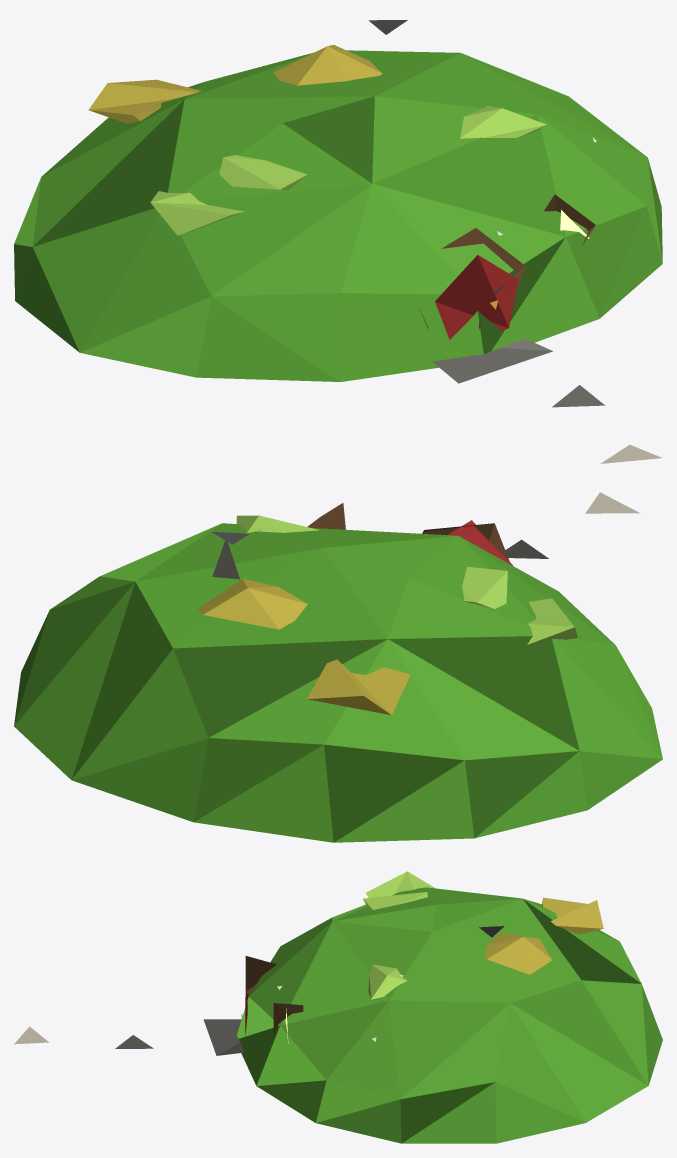
The model's file is hobbit_hole_2_lod2.glb.
The picture shows the model from 3 angles, top to bottom: view 1: azimuth 30°, elevation 25°; view 2: azimuth 150°, elevation 25°; view 3: azimuth 270°, elevation 25°; orthographic projection. The views are drawn at different scales.
Parts seen in each view (by area): view 1: hobbit_hole_2_lod2; view 2: hobbit_hole_2_lod2; view 3: hobbit_hole_2_lod2.
Boxes of the visible parts, x1,y1,x2,y2 form: hobbit_hole_2_lod2: [14, 20, 662, 463]; hobbit_hole_2_lod2: [14, 492, 662, 842]; hobbit_hole_2_lod2: [14, 871, 662, 1143].
Size of the model in its own units: 13.4 by 4.41 by 17.54.
